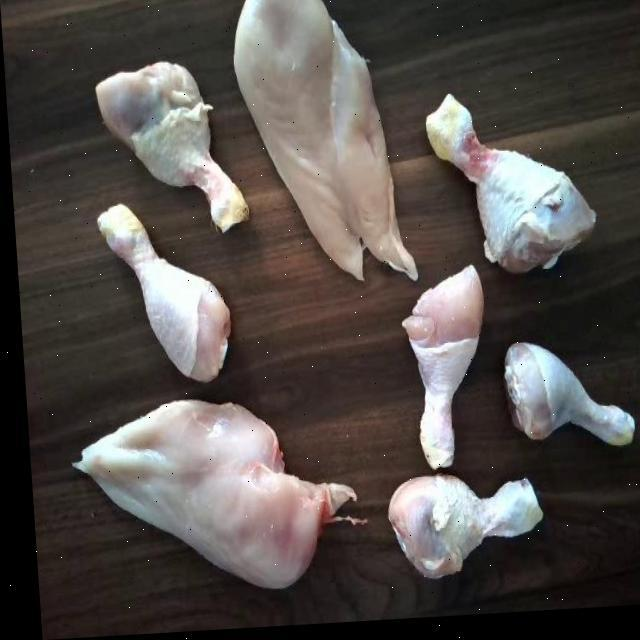breast: (50, 387, 324, 604), (230, 0, 404, 276)
leg: (412, 86, 597, 281), (92, 54, 248, 245), (88, 201, 229, 385), (393, 267, 498, 489), (496, 334, 636, 472), (382, 472, 546, 588)
